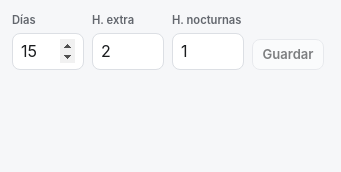
Test: NovedadesForm › mantiene Guardar deshabilitado hasta que se edite algún valor
The image size is (341, 172).
Expected: the button "Guardar" is disabled, left=252, top=39, right=324, bottom=70
Replace the text in the number field labelled "H. extra" with "4" at (128, 51), box left=92, top=33, right=164, bottom=70
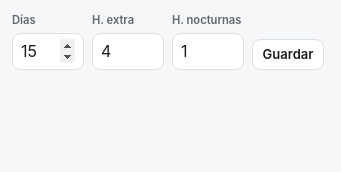
Expected: the button "Guardar" is enabled, left=252, top=39, right=324, bottom=70
